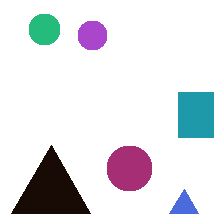circle: (107, 146, 151, 190), (29, 14, 59, 44), (78, 21, 106, 49)
rectangle: (178, 92, 213, 137)
triangle: (11, 145, 90, 213), (169, 189, 198, 213)
